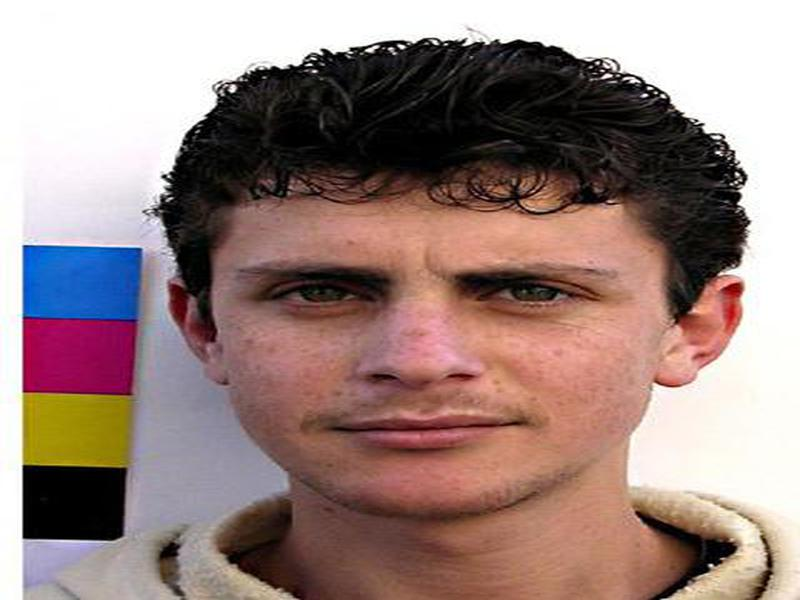without_mask: (202, 197, 665, 521)
